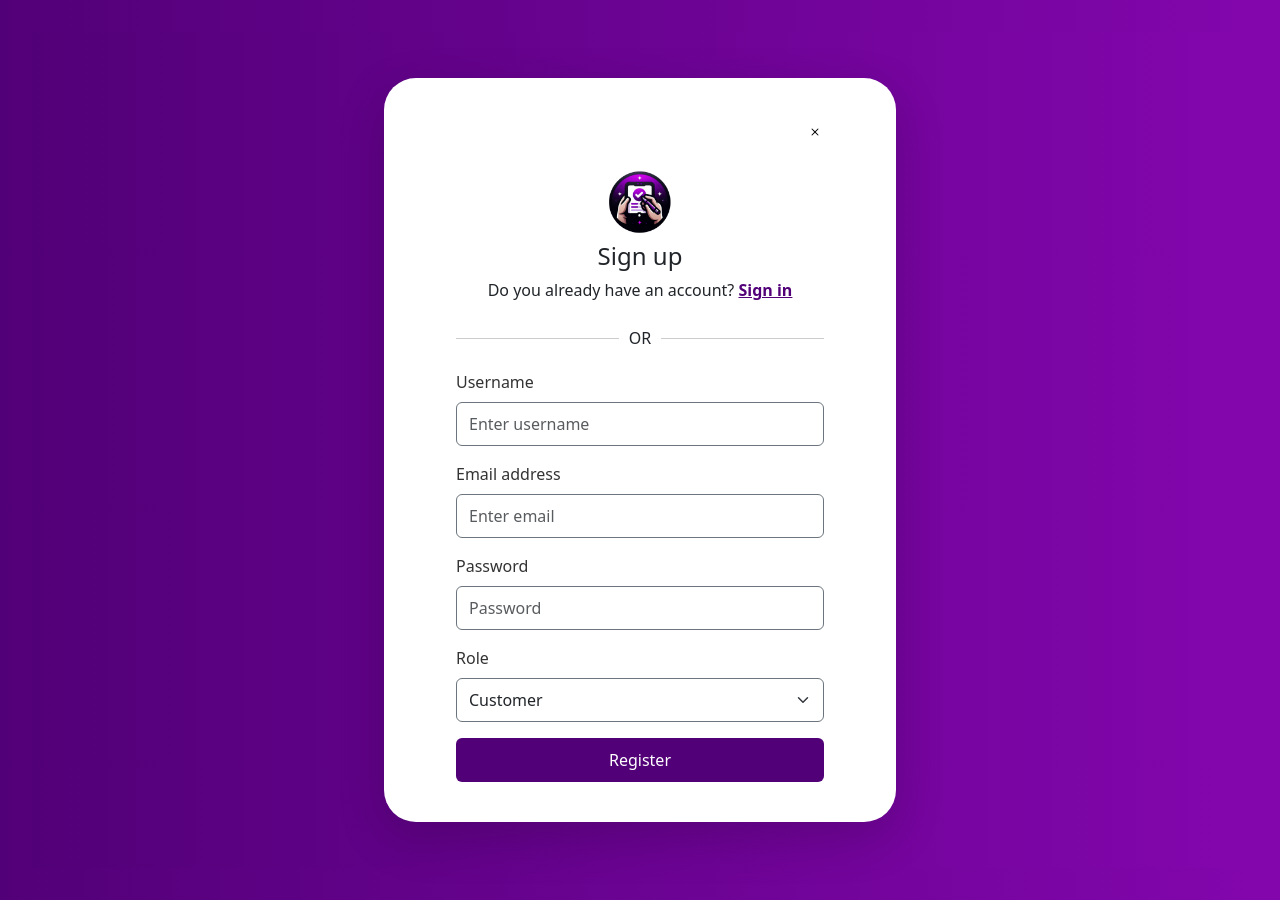
Test: RegisterPage authentication › does not submit when required fields are empty
The image size is (1280, 900).
Click the button "Register". click: (640, 760)
box: [456,738,824,782]
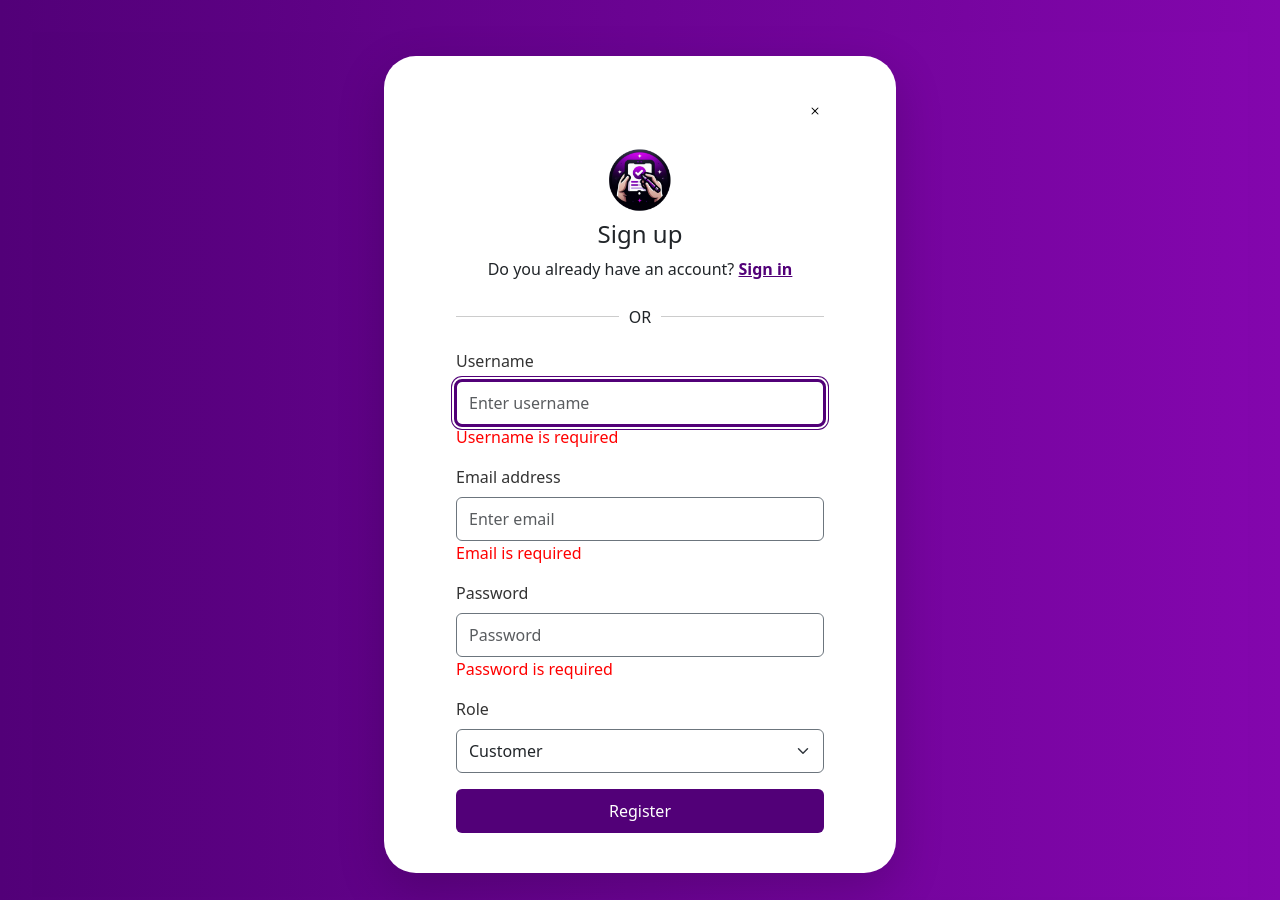
Now the text "Username is required" is shown, box [456,426,618,448]
Now the text "Email is required" is shown, box [456,542,582,564]
Now the text "Password is required" is shown, box [456,658,613,680]
